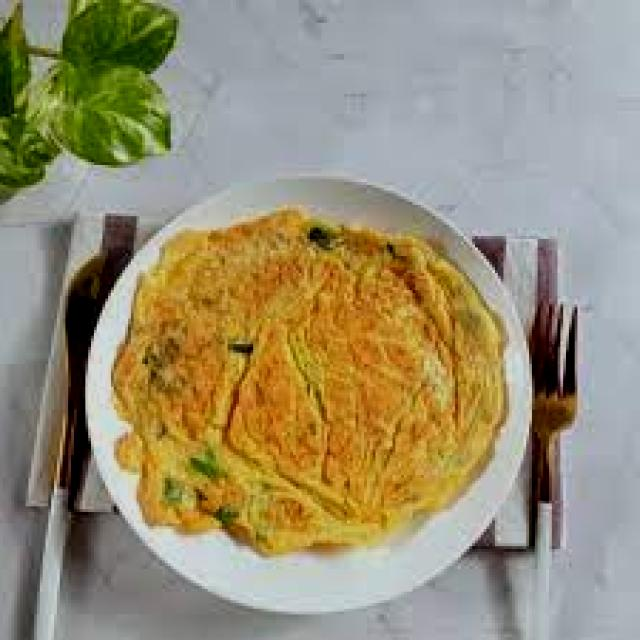telur dadar: (111, 210, 515, 560)
